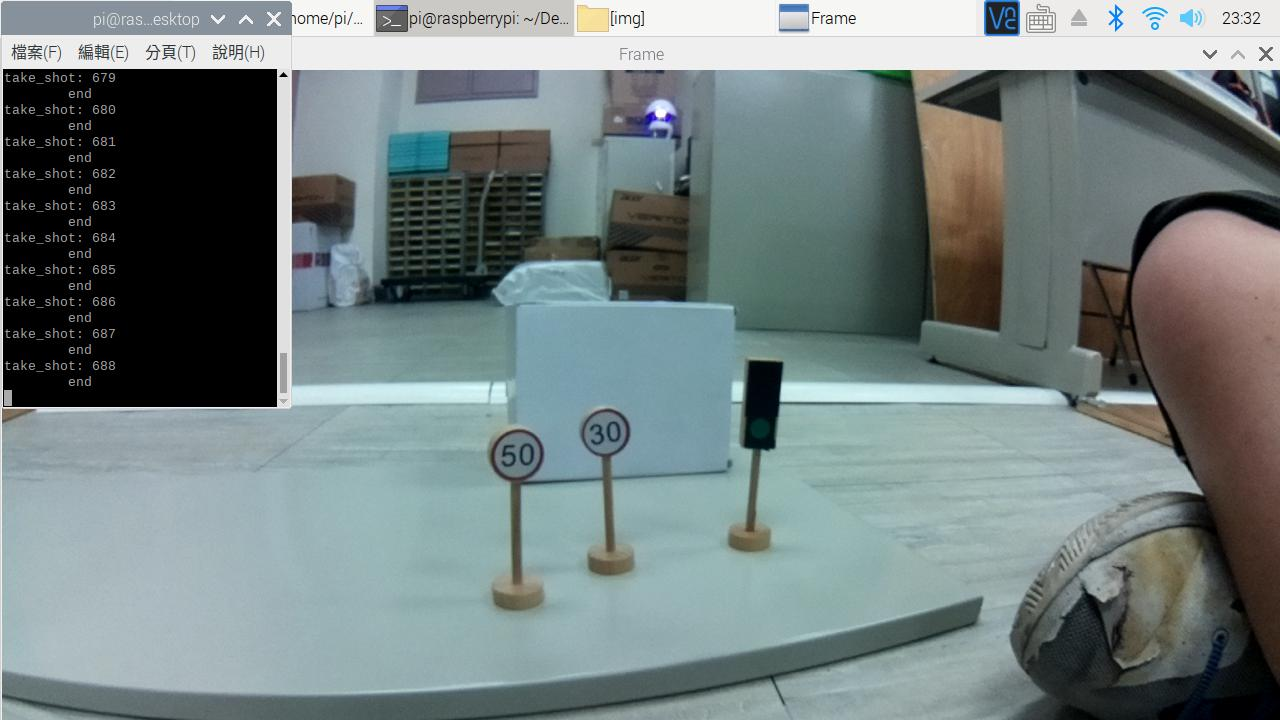Green: (724, 348, 790, 461)
Speed30: (573, 400, 642, 461)
Speed50: (481, 414, 548, 491)
